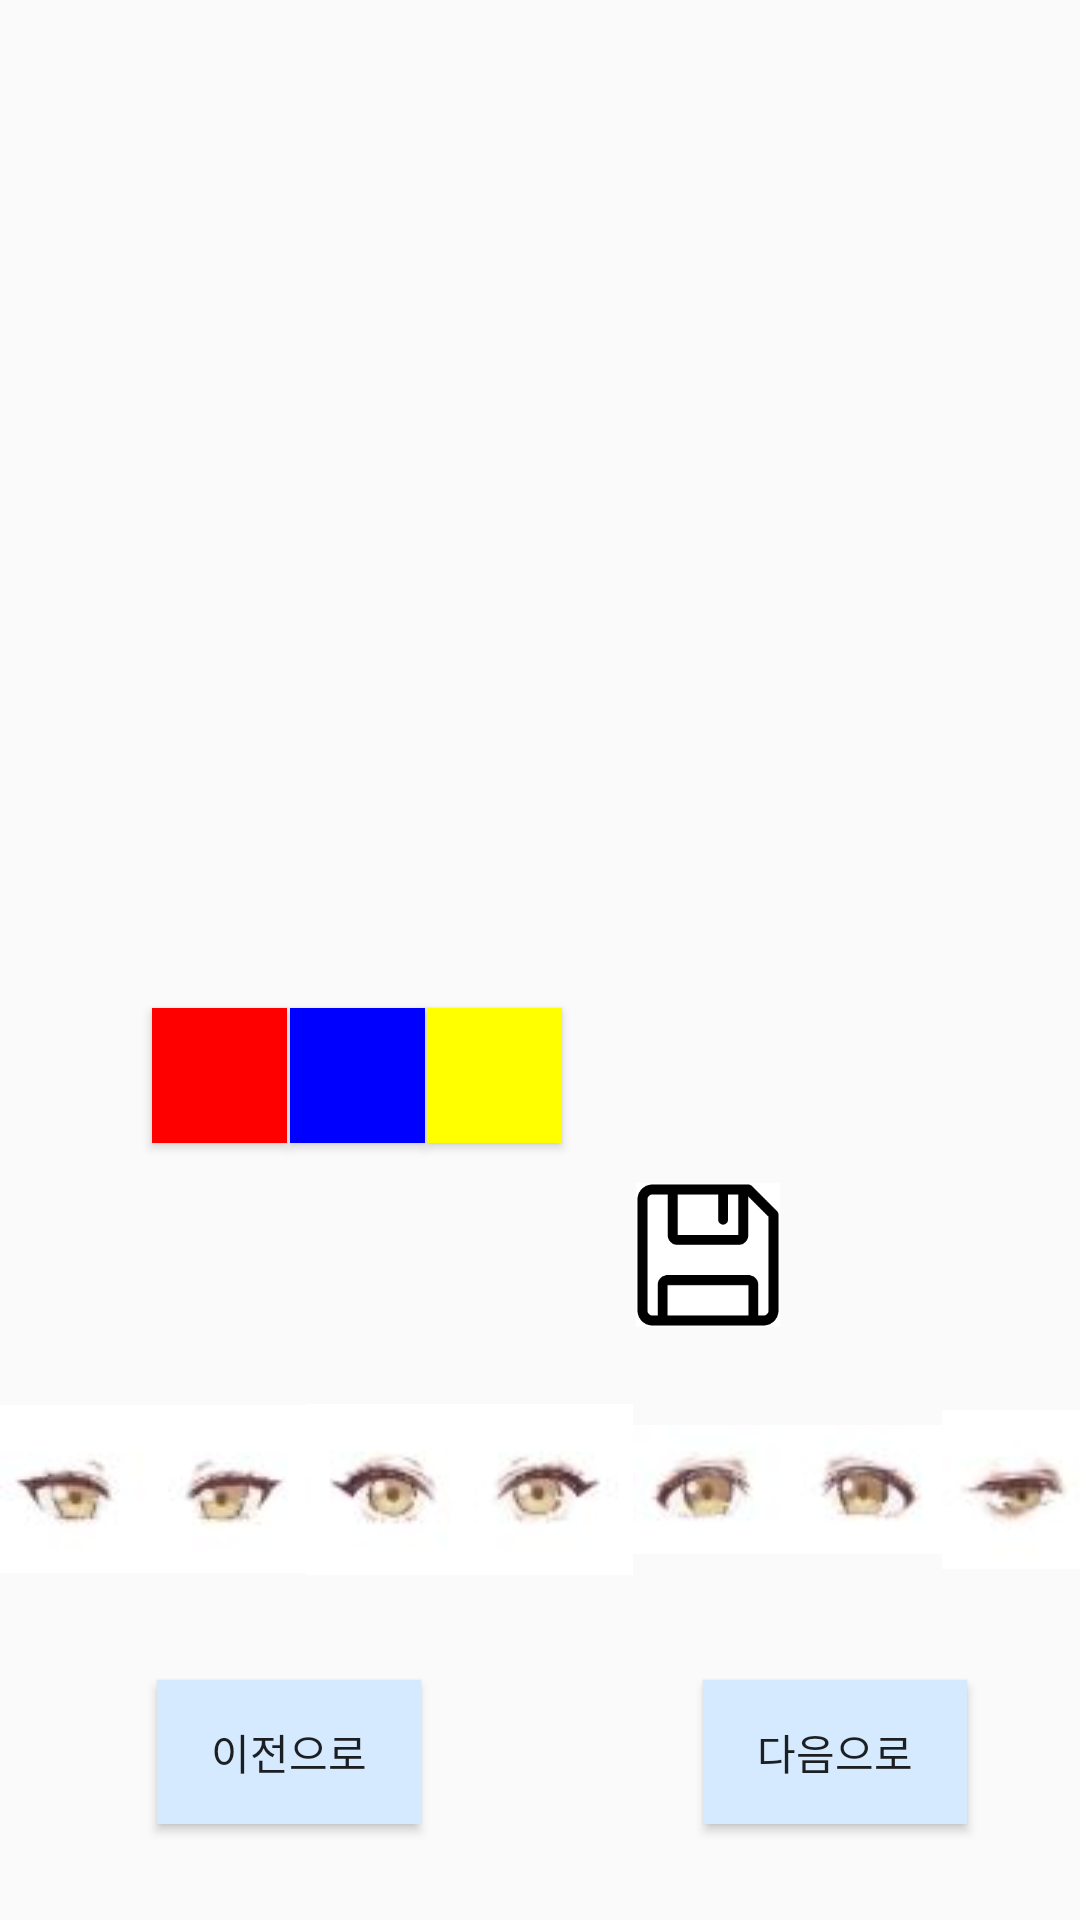

Icons on this 1080 × 1920 Android screen, each with the point to tap as (x=x, y=y):
save: (x=708, y=1255)
